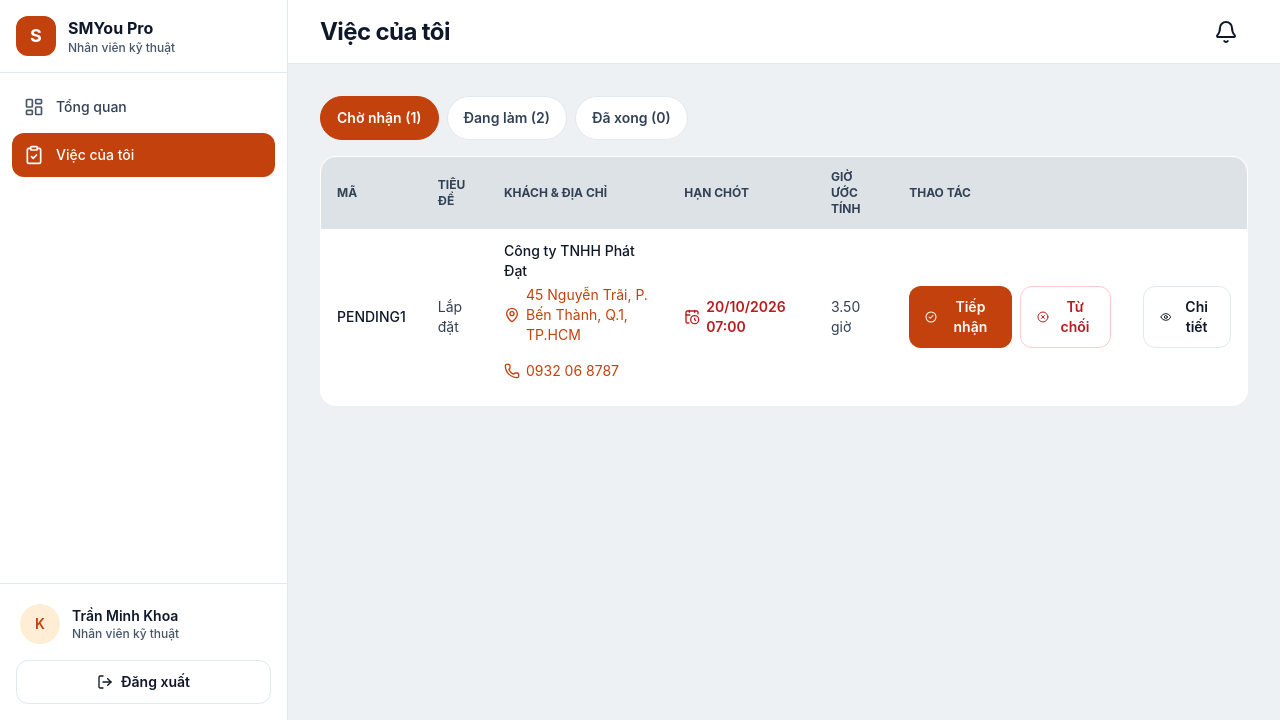
/my-tasks đọc `focus` từ URL lúc tải (M10-07c) › AC-DASH-049 không `focus`: tab mặc định Chờ nhận, tab Đang làm vẫn gồm đủ ACCEPTED+IN_PROGRESS (không hồi quy)
The image size is (1280, 720).
Expected: the text "PENDING1" is shown, x1=320 y1=229 x2=422 y2=406
Click the tab "Đang làm (2)".
click(507, 118)  # box x1=447 y1=96 x2=567 y2=140
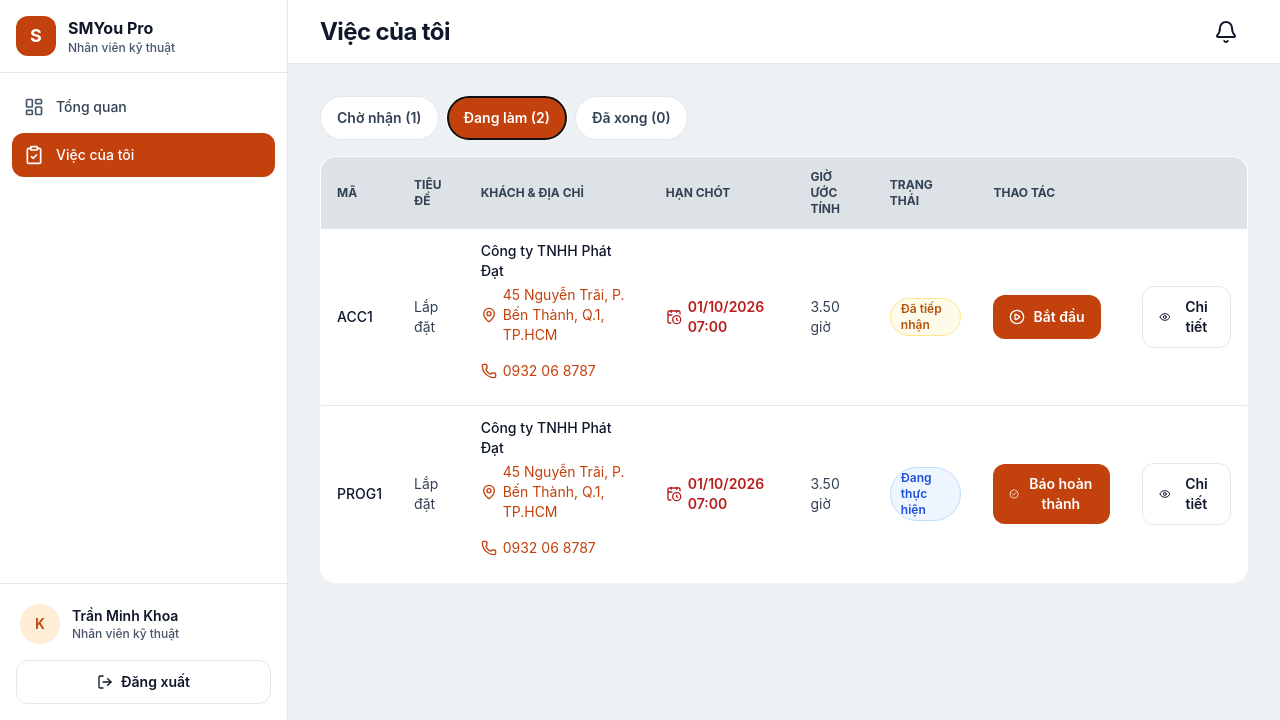
Now the text "ACC1" is shown, box x1=320 y1=229 x2=398 y2=406
Now the text "PROG1" is shown, box x1=320 y1=406 x2=398 y2=582
